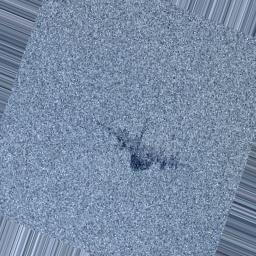Airplane: (95, 119, 191, 174)
